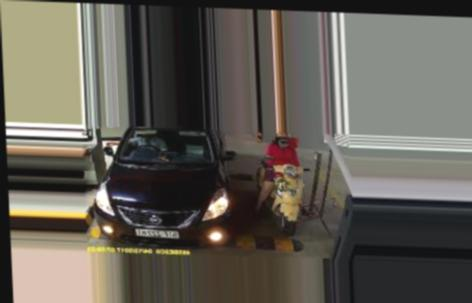License_Plate: (133, 227, 180, 241)
